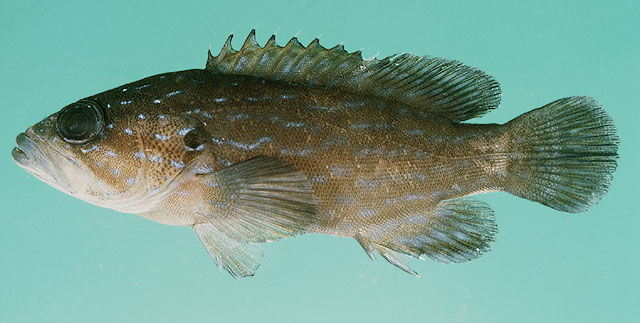fish: (12, 29, 621, 278)
